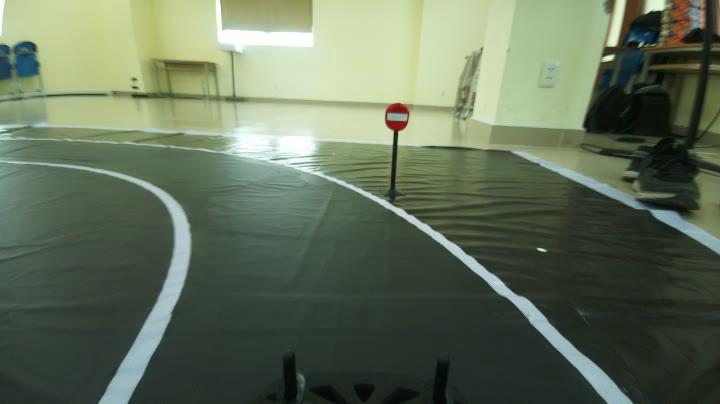no_entry: (376, 96, 418, 136)
